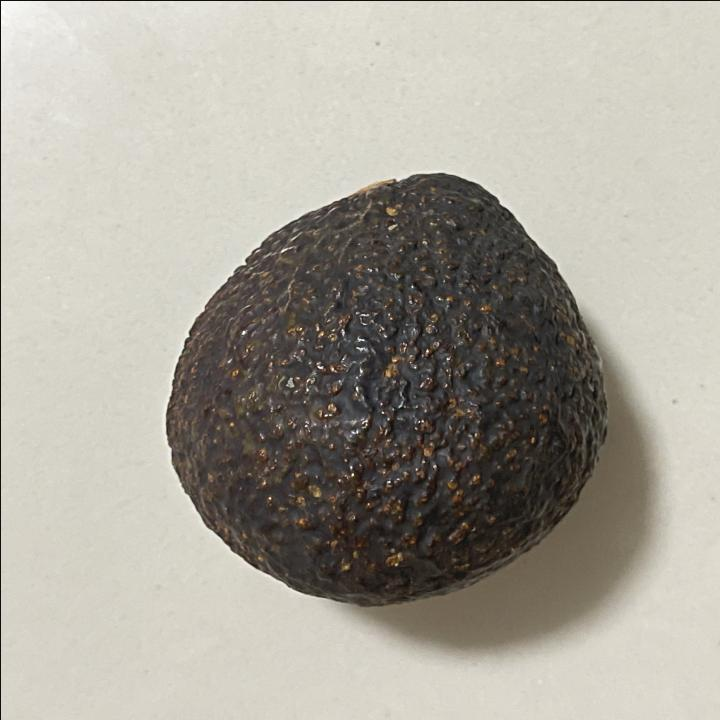Level3: (157, 159, 620, 615)
